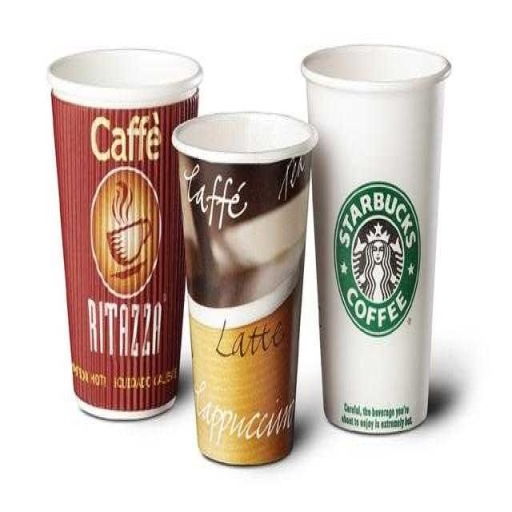cup: (300, 44, 452, 436), (46, 46, 203, 421), (171, 110, 318, 467)
